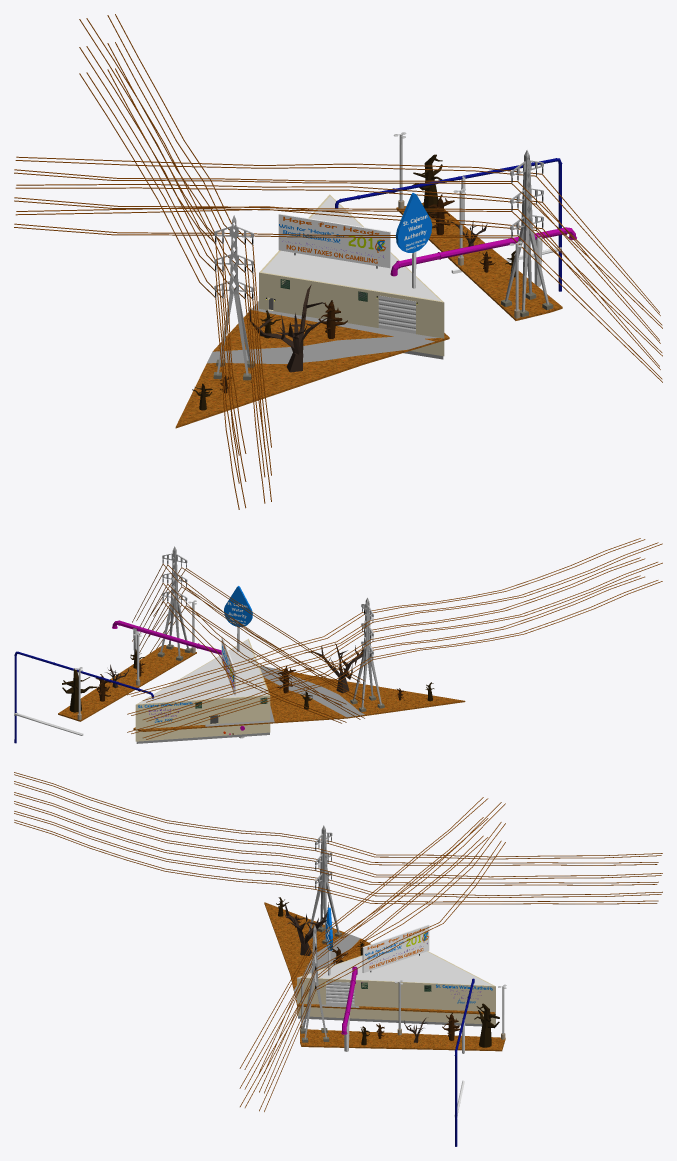
File: Water Treatment.glb
3 views of the same model, one above another, from view 1: azimuth 30°, elevation 25°; view 2: azimuth 150°, elevation 25°; view 3: azimuth 270°, elevation 25° (orthographic). The views are drawn at different scales.
Visible parts, largest first — view 1: Wires.001, Ground.001, Wires, Ext Walls, Roof, Vote Sign, Ground.002, Tower.001, Tower, Sign, Trunk, Intake Piping (+5 smaller); view 2: Wires, Ground.001, Ext Walls, Wires.001, Roof, Ground.002, Tower.001, Tower, Sign, Tree.003, Trunk, Intake Piping (+6 smaller); view 3: Wires, Ext Walls, Wires.001, Ground.001, Roof, Ground.002, Vote Sign, Tower, Tree.003, Trunk, Tower.001, Garage Doors.
Boxes of the visible parts, x1,y1,x2,y2 form: Wires.001: (14,156,662,382); Ground.001: (175,301,449,428); Wires: (79,14,271,509); Ext Walls: (259,194,444,356); Roof: (262,196,440,300); Vote Sign: (278,213,390,268); Ground.002: (396,202,562,320); Tower.001: (505,150,548,311); Tower: (214,215,253,375); Sign: (395,193,432,288); Trunk: (248,220,487,372); Intake Piping: (335,158,562,291); Wires: (127,538,662,739); Ground.001: (133,665,465,731); Ext Walls: (135,638,270,741); Wires.001: (132,563,364,723); Roof: (138,640,268,703); Ground.002: (58,645,196,721); Tower.001: (160,546,188,657); Tower: (353,597,381,708); Sign: (224,586,252,651); Tree.003: (62,649,434,712); Trunk: (105,643,363,693); Intake Piping: (14,651,153,743); Wires: (14,772,662,904); Ext Walls: (297,951,495,1024); Wires.001: (239,797,505,1111); Ground.001: (264,902,494,1014); Roof: (301,951,491,985); Ground.002: (300,1029,505,1051); Vote Sign: (362,924,429,973); Tower: (309,825,339,940); Tree.003: (276,897,499,1047); Trunk: (284,902,427,1042); Tower.001: (302,925,326,1039); Garage Doors: (326,981,354,1005).
Size of the model in its own units: 112 by 42.05 by 140.
Materials: 37 (1 with a texture image).
